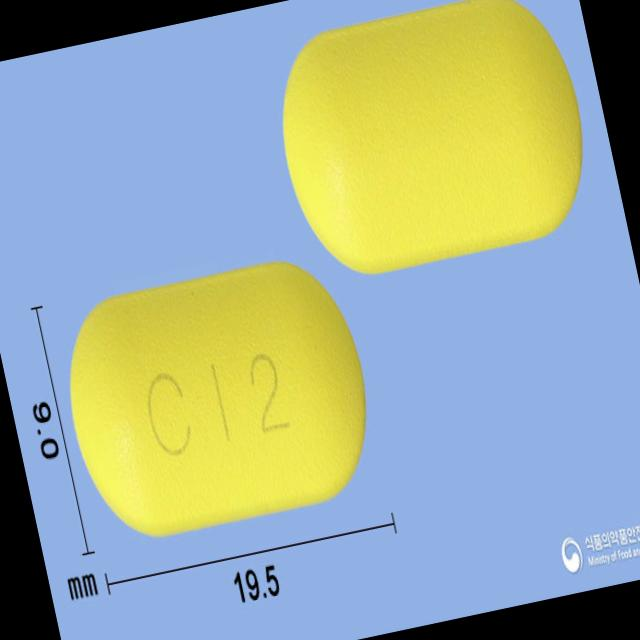Clomycin: (48, 246, 388, 550)
